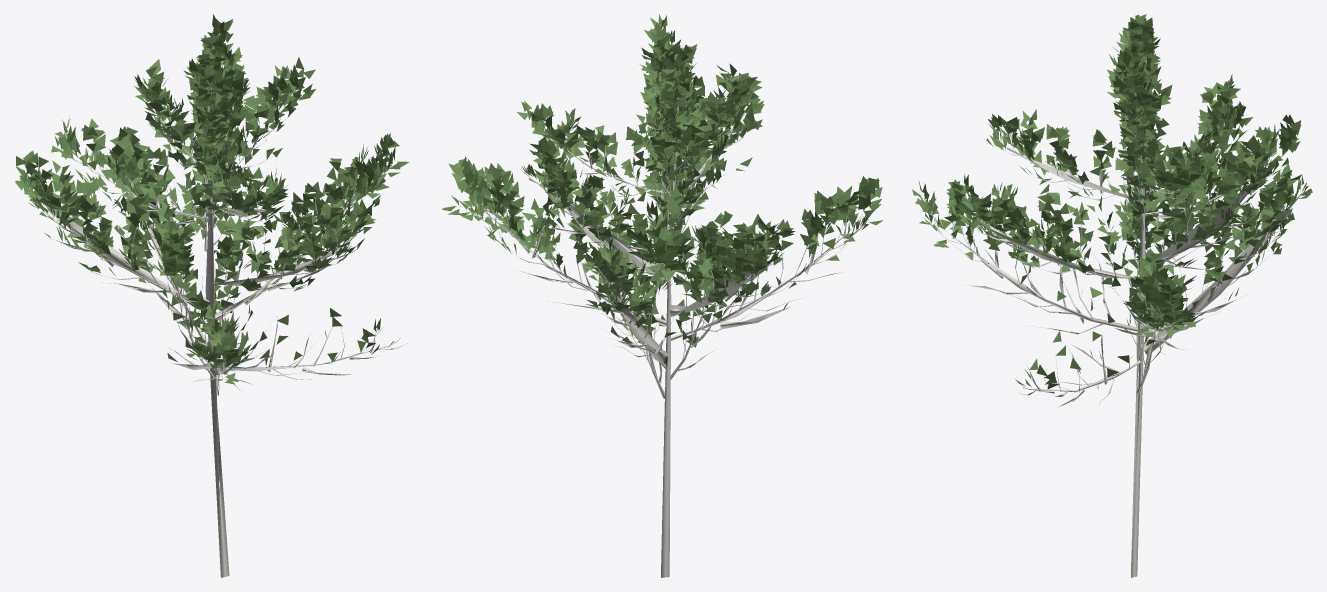
The model's file is Birch_01_LOD0.fbx.
3 views of the same model, side by side, from view 1: azimuth 30°, elevation 25°; view 2: azimuth 150°, elevation 25°; view 3: azimuth 270°, elevation 25° (orthographic).
Parts seen in each view (by area): view 1: Birch; view 2: Birch; view 3: Birch.
Boxes of the visible parts, x1=… form: Birch: x1=14, y1=14, x2=409, y2=577; Birch: x1=442, y1=14, x2=882, y2=577; Birch: x1=912, y1=14, x2=1312, y2=577.
Size of the model in its own units: 968 by 1461 by 948.
